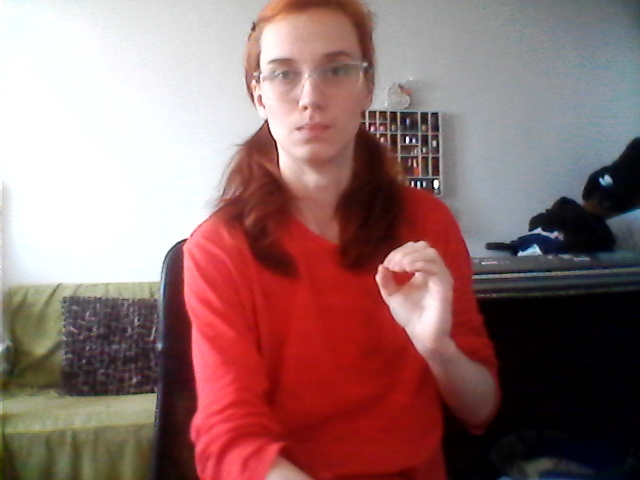o: (364, 222, 476, 365)
